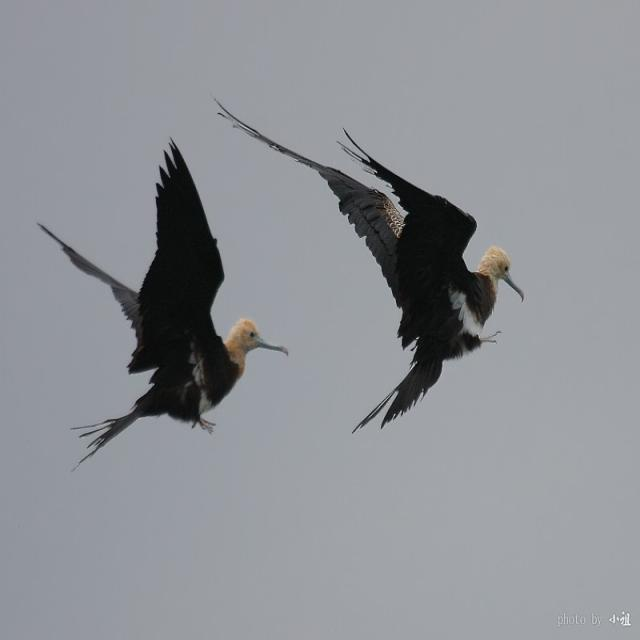bird: (213, 97, 532, 440), (26, 133, 300, 459)
